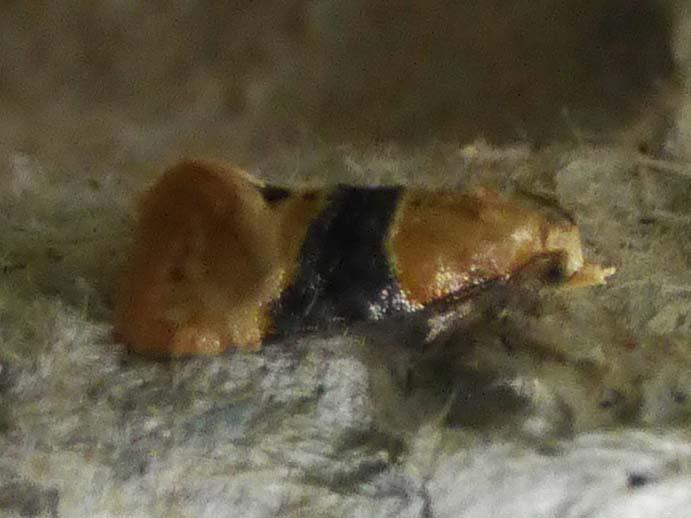Eupoecilia Ambiguella: (107, 154, 616, 364)
